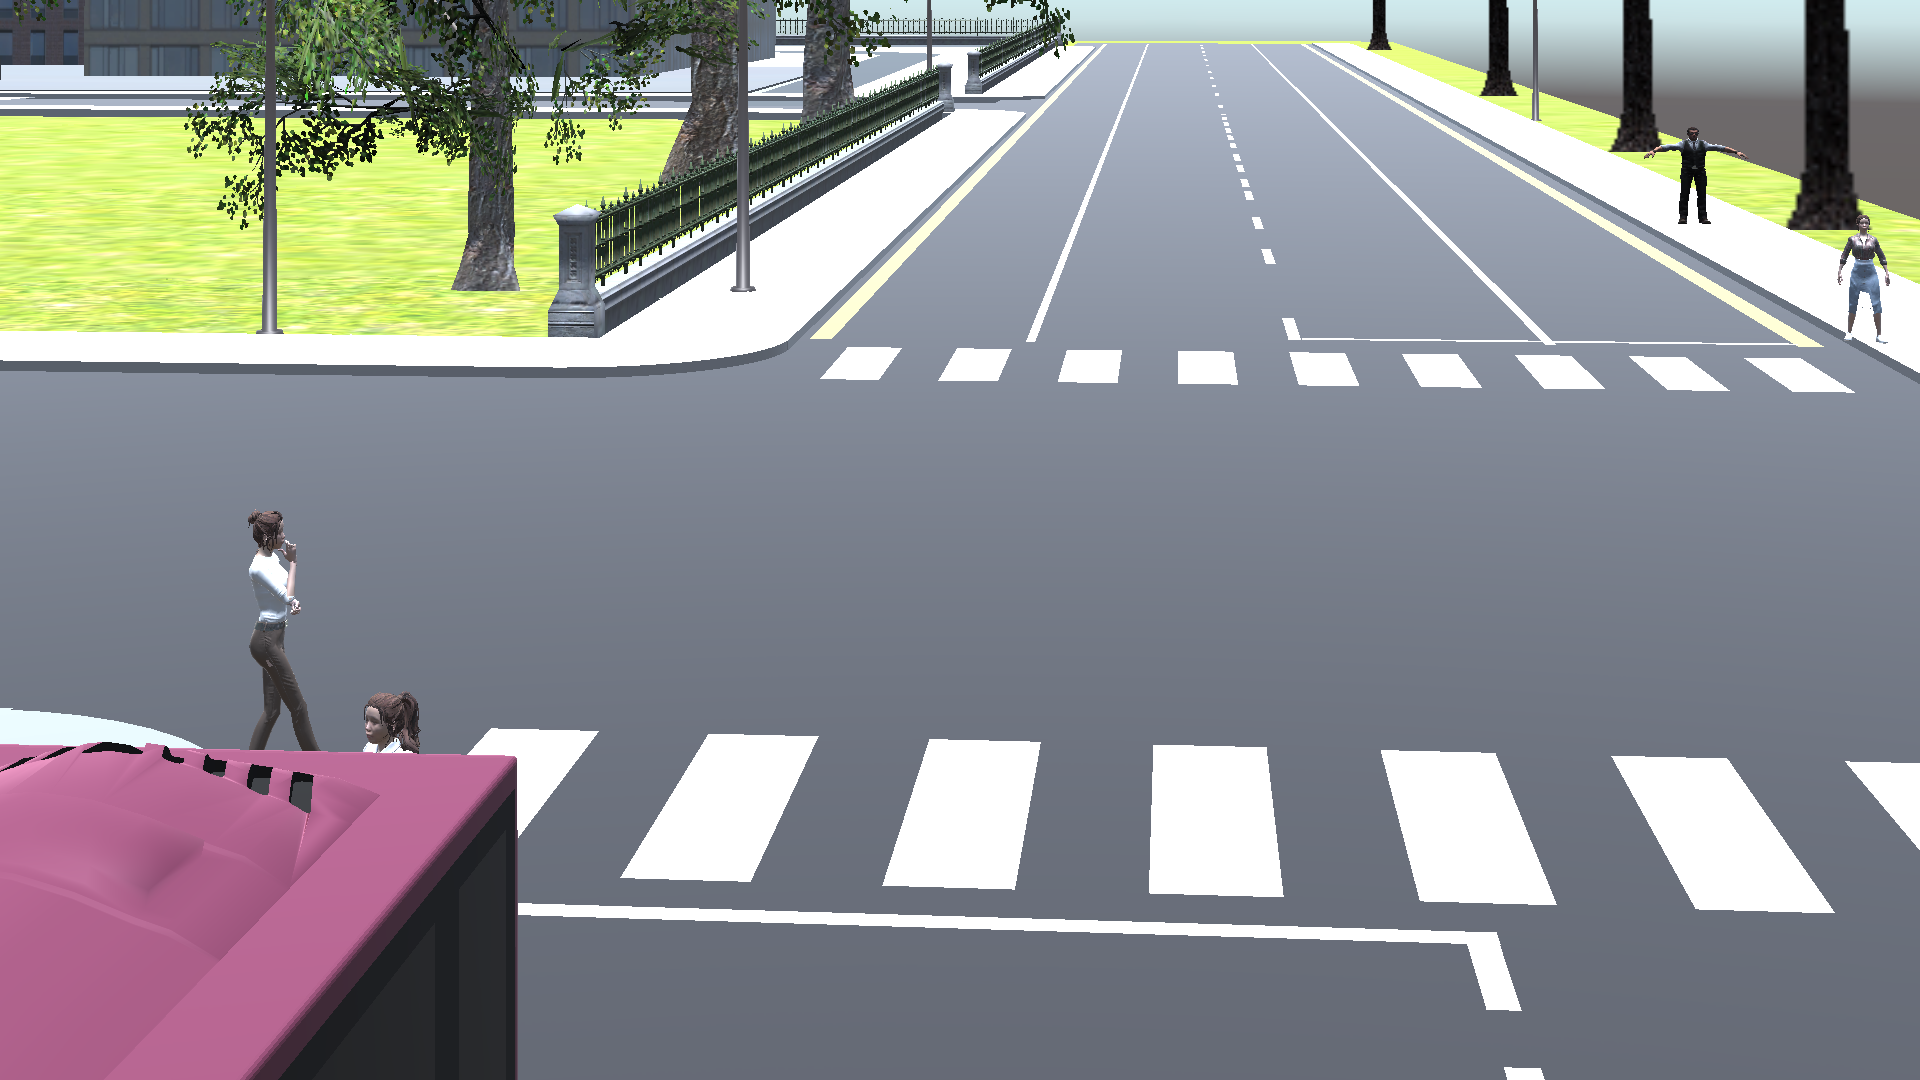pedestrian: (236, 505, 334, 750), (1639, 127, 1753, 227), (1836, 199, 1908, 346), (359, 685, 430, 755)
